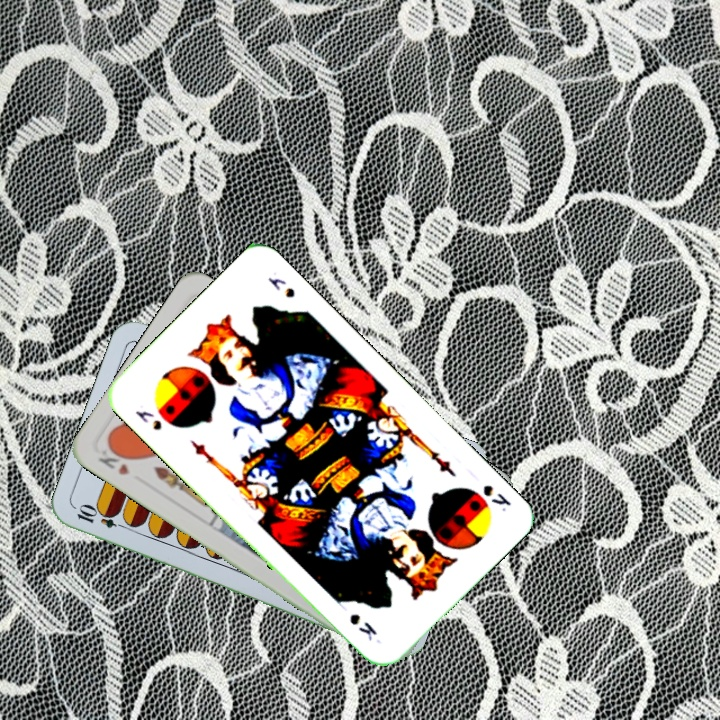E10: (73, 502, 131, 532)
HK: (94, 441, 134, 478)
SK: (479, 480, 514, 515), (131, 406, 165, 433)
